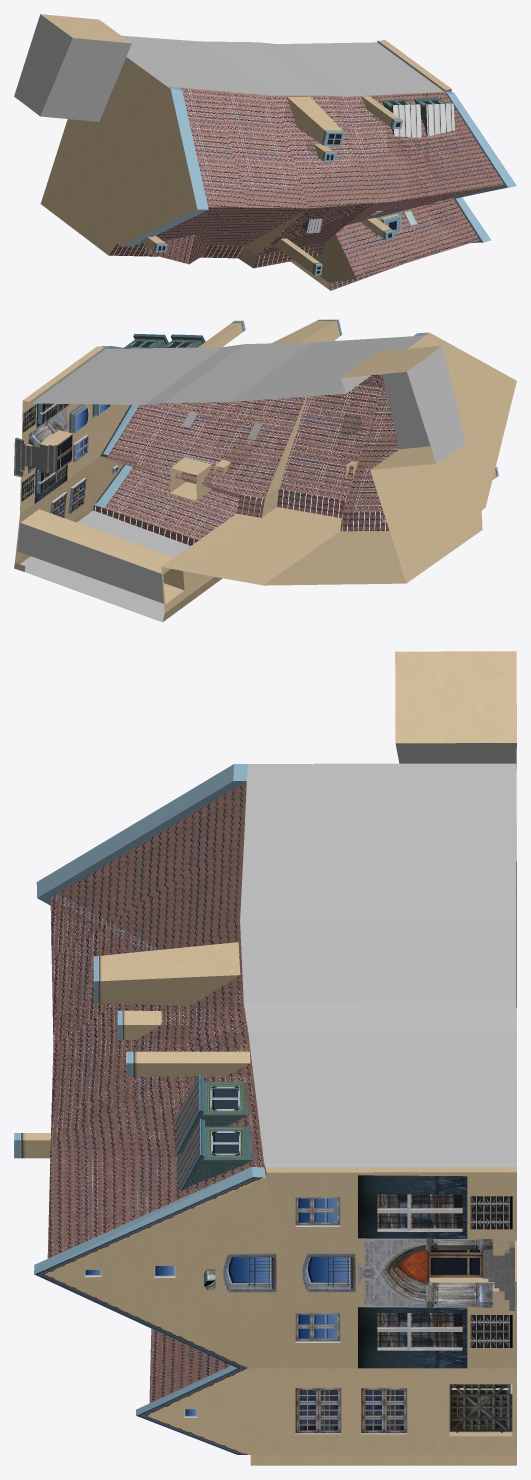
Rendered from Suur-Karja_8.obj.
The picture shows the model from 3 angles, top to bottom: view 1: azimuth 30°, elevation 25°; view 2: azimuth 150°, elevation 25°; view 3: azimuth 270°, elevation 25°; orthographic projection. The views are drawn at different scales.
Visible parts, largest first — view 1: Suur_Karja_8, xxx; view 2: Suur_Karja_8, xxx; view 3: Suur_Karja_8, xxx.
Part boxes in pixels (left/top/right/bottom): Suur_Karja_8: left=40, top=14, right=516, bottom=290; xxx: left=14, top=14, right=456, bottom=289; Suur_Karja_8: left=14, top=319, right=516, bottom=621; xxx: left=20, top=335, right=465, bottom=622; Suur_Karja_8: left=14, top=651, right=516, bottom=1465; xxx: left=240, top=743, right=516, bottom=1167.
Size of the model in its own units: 32.12 by 22.12 by 19.33.
